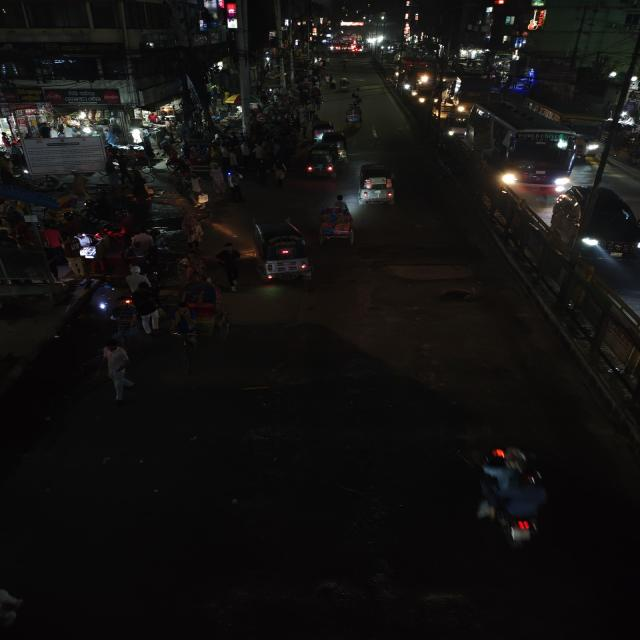bus: (465, 99, 580, 193), (539, 102, 607, 156)
car: (552, 181, 640, 277), (444, 111, 469, 141)
cng: (246, 217, 314, 287), (354, 162, 403, 208), (304, 134, 350, 180), (310, 119, 336, 143)
motorcycle: (463, 444, 560, 556)
pedestrian: (98, 339, 134, 405), (125, 280, 162, 336), (215, 241, 242, 289), (38, 222, 68, 258), (179, 219, 208, 251), (225, 168, 247, 201), (188, 190, 213, 214), (272, 160, 288, 188)
rickshaw: (169, 278, 233, 349), (316, 205, 359, 247), (0, 223, 20, 250), (342, 106, 366, 128)
